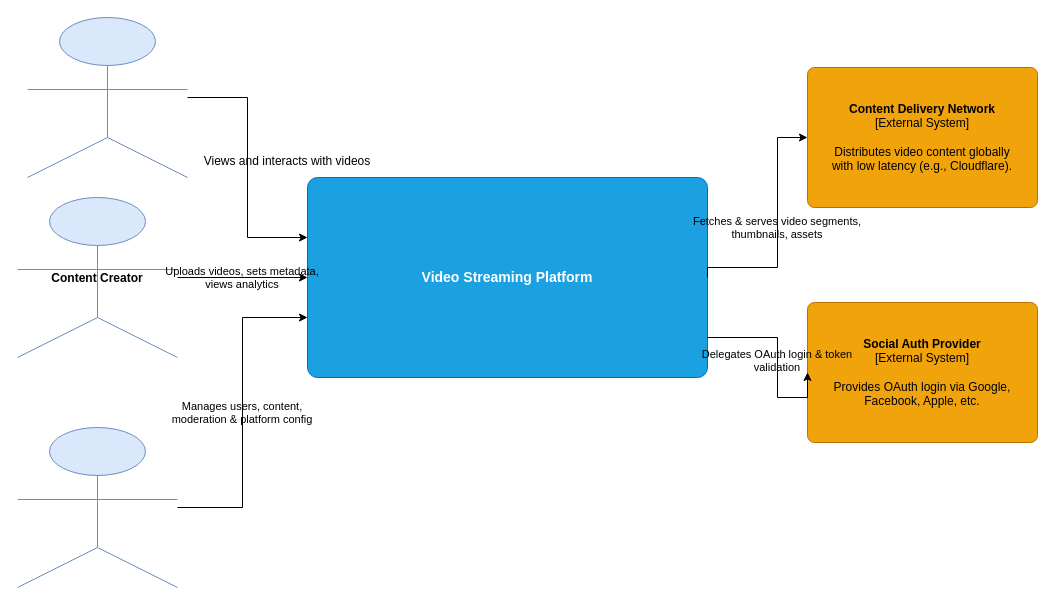
The diagram is 1055 pixels wide and 605 high, and some of its shapes have lost their labels. Each missing label, with the box of its shape:
Admin: (16, 426, 178, 588)
Subscriber: (26, 16, 188, 178)
